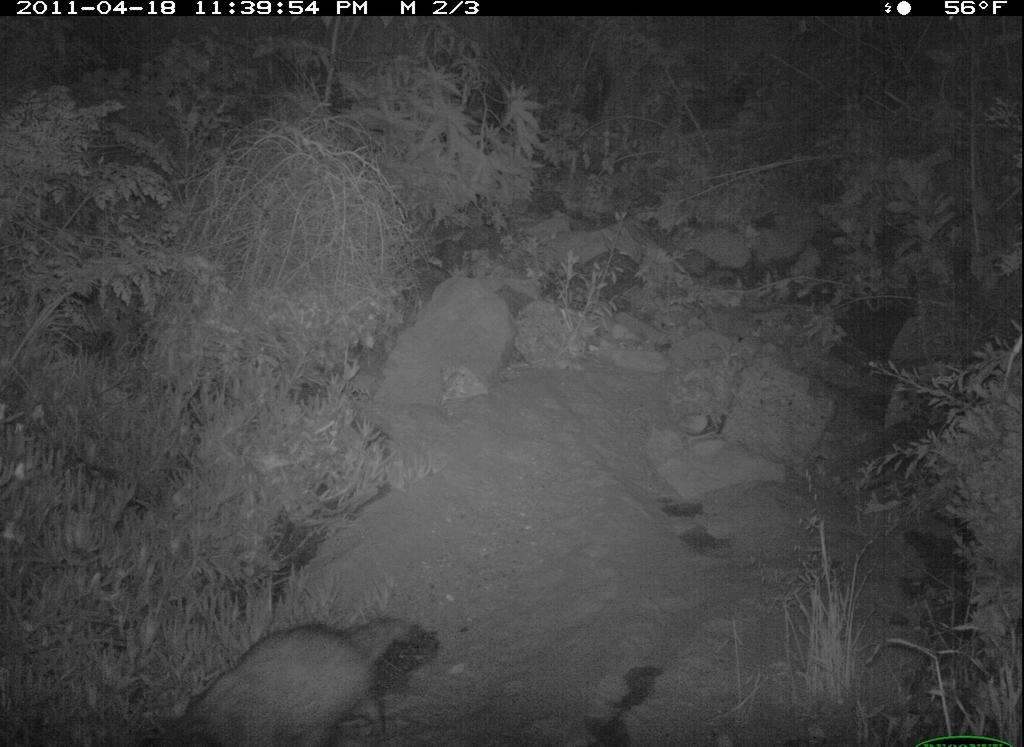raccoon: (148, 614, 431, 747)
